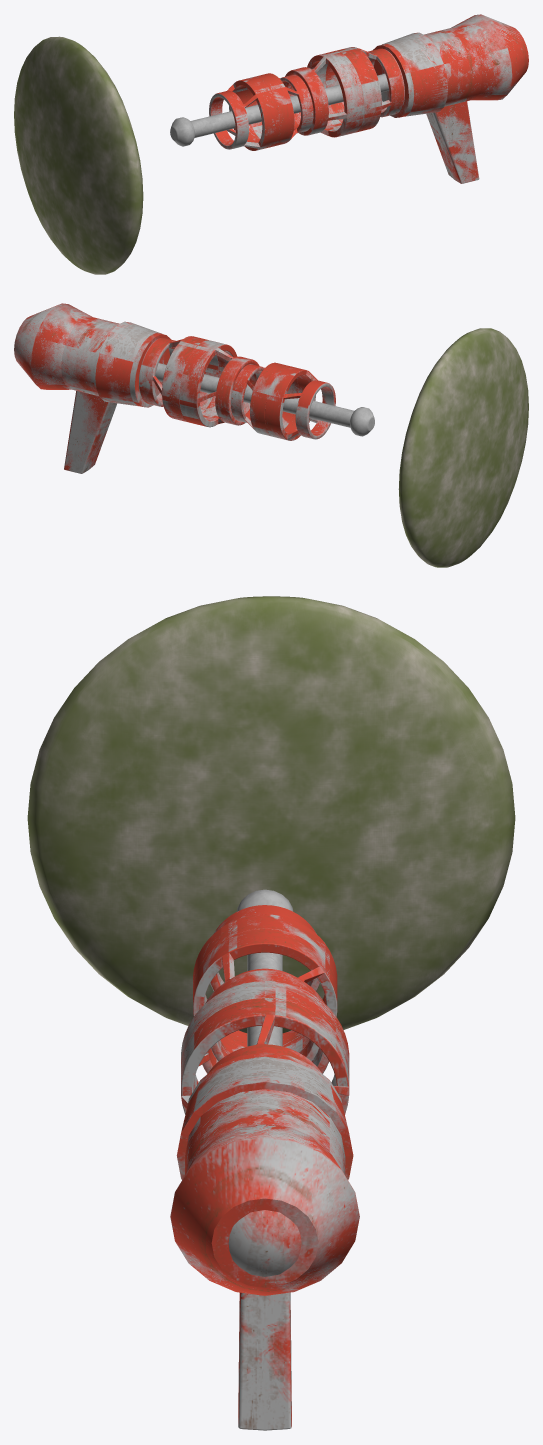
The model's file is ray anim.fbx.
3 renders of one model, top to bottom at view 1: azimuth 30°, elevation 25°; view 2: azimuth 150°, elevation 25°; view 3: azimuth 270°, elevation 25°, orthographic. The views are drawn at different scales.
Visible parts, largest first — view 1: pCylinder3, pSphere2; view 2: pCylinder3, pSphere2; view 3: pSphere2, pCylinder3.
Boxes of the visible parts, x1,y1,x2,y2 form: pCylinder3: (170,14,528,183); pSphere2: (14,36,143,274); pCylinder3: (14,303,374,473); pSphere2: (398,328,528,567); pSphere2: (27,596,515,1033); pCylinder3: (170,889,359,1430).
Size of the model in its own units: 18.8 by 8.74 by 8.58.
